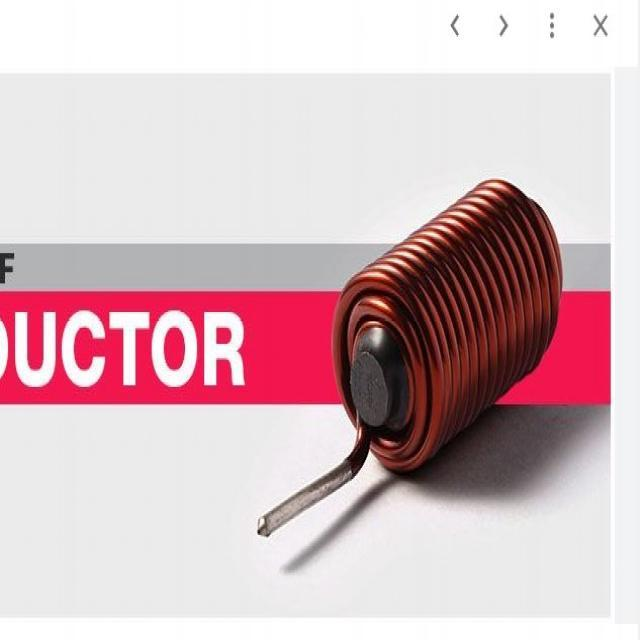Inductor: (258, 180, 562, 534)
